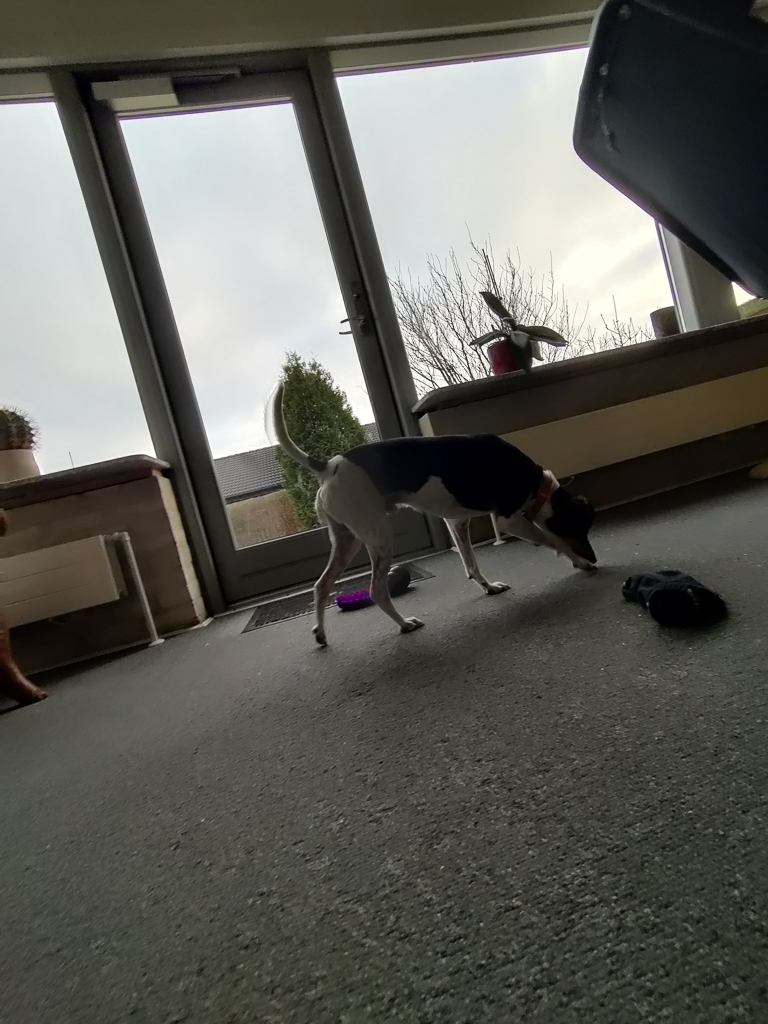Cattle: (0, 502, 59, 716)
Dog: (251, 363, 620, 660)
